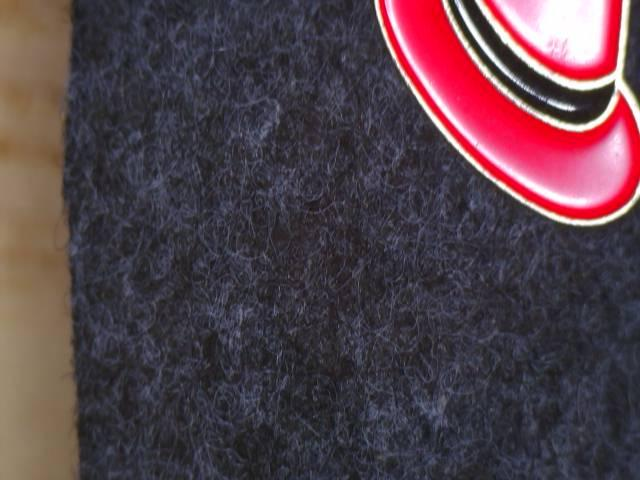Red-Hat: (362, 0, 640, 250)
